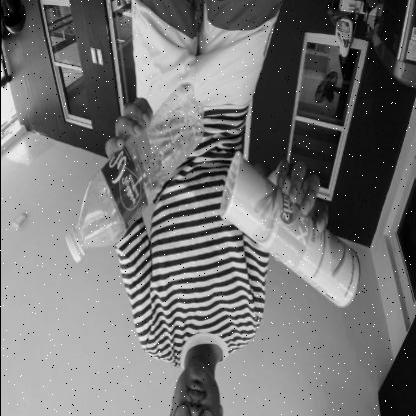Plastic Bottle: (62, 80, 202, 269)
